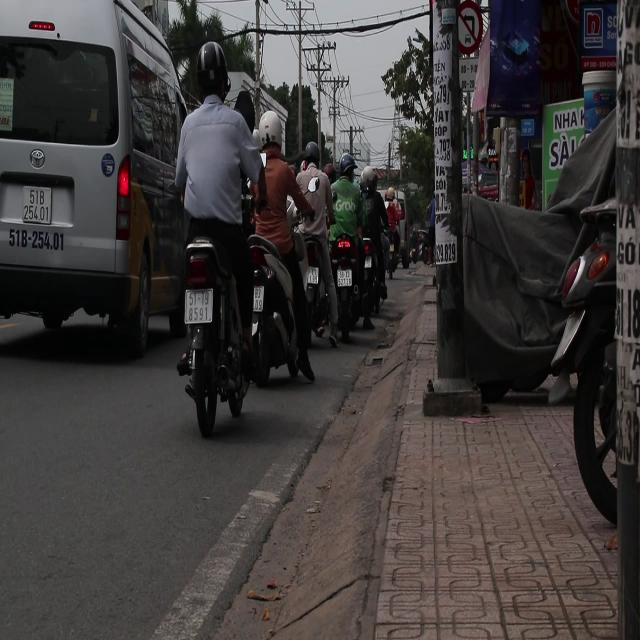car: (2, 0, 200, 373)
motorbike: (177, 235, 255, 435), (248, 236, 306, 388), (327, 218, 383, 343), (291, 221, 337, 353)
